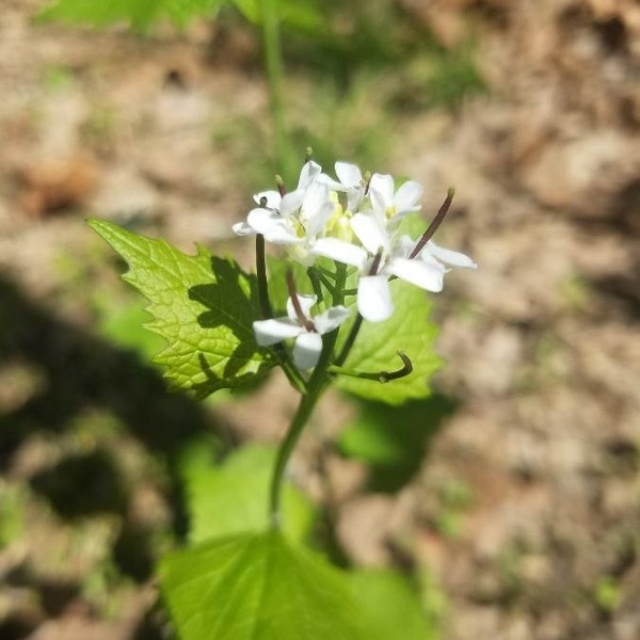obstacle: (82, 154, 474, 429)
